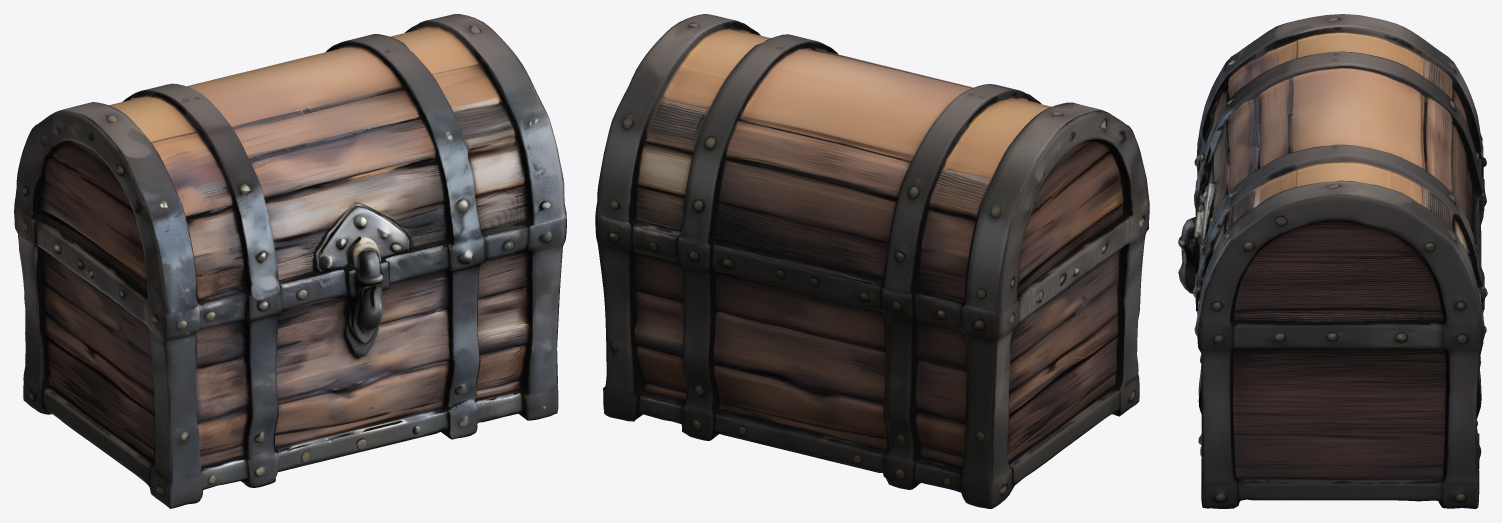
The model's file is coffre.glb.
3 renders of one model, left to right at view 1: azimuth 30°, elevation 25°; view 2: azimuth 150°, elevation 25°; view 3: azimuth 270°, elevation 25°, orthographic. The views are drawn at different scales.
Visible parts, largest first — view 1: model; view 2: model; view 3: model.
Boxes of the visible parts, left/top/right/bottom form: model: left=14, top=14, right=566, bottom=508; model: left=595, top=14, right=1149, bottom=508; model: left=1178, top=14, right=1487, bottom=508.
Bounding box in the file's own units: 1.83 × 1.46 × 1.28.
1 material, 1 textured.
